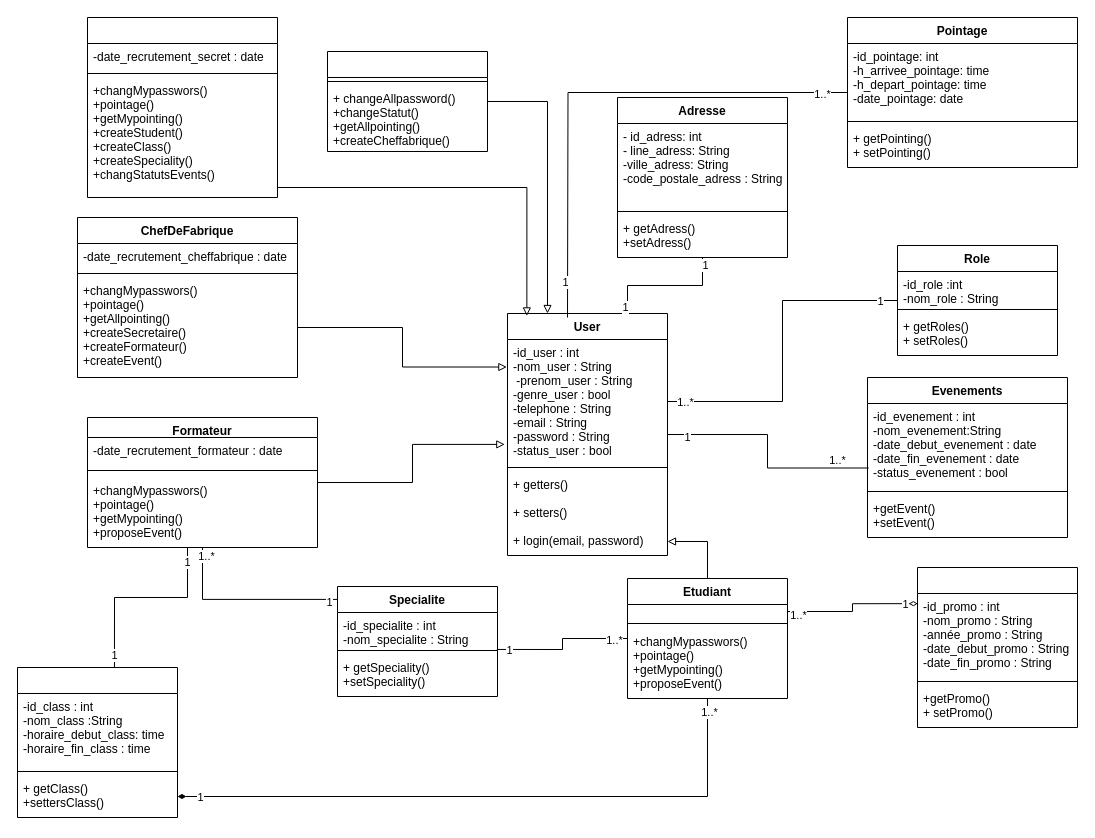
Some shapes in this 1095 by 838 pixel diagram are drawn without their labels. The box of each missing label's shape, as (x1, y1, x2, y2) in pixels:
Admin: (326, 50, 488, 152)
Classe: (16, 666, 178, 818)
Promotion: (916, 566, 1078, 728)
Secretaire: (86, 16, 278, 198)
